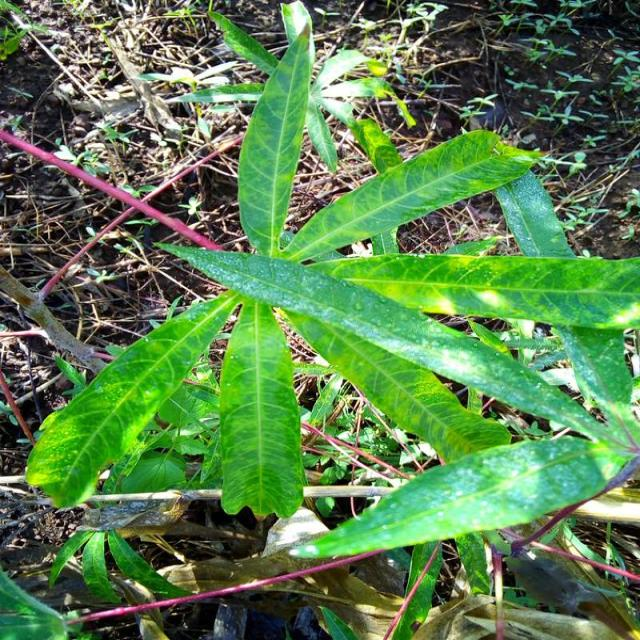cassava leaf: (24, 288, 240, 510), (288, 433, 636, 560), (217, 296, 307, 520)
